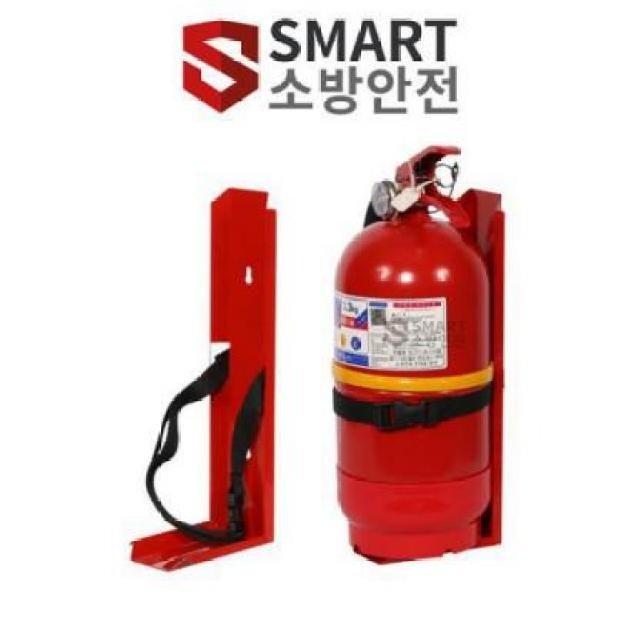fire extinguisher: (330, 143, 493, 560)
